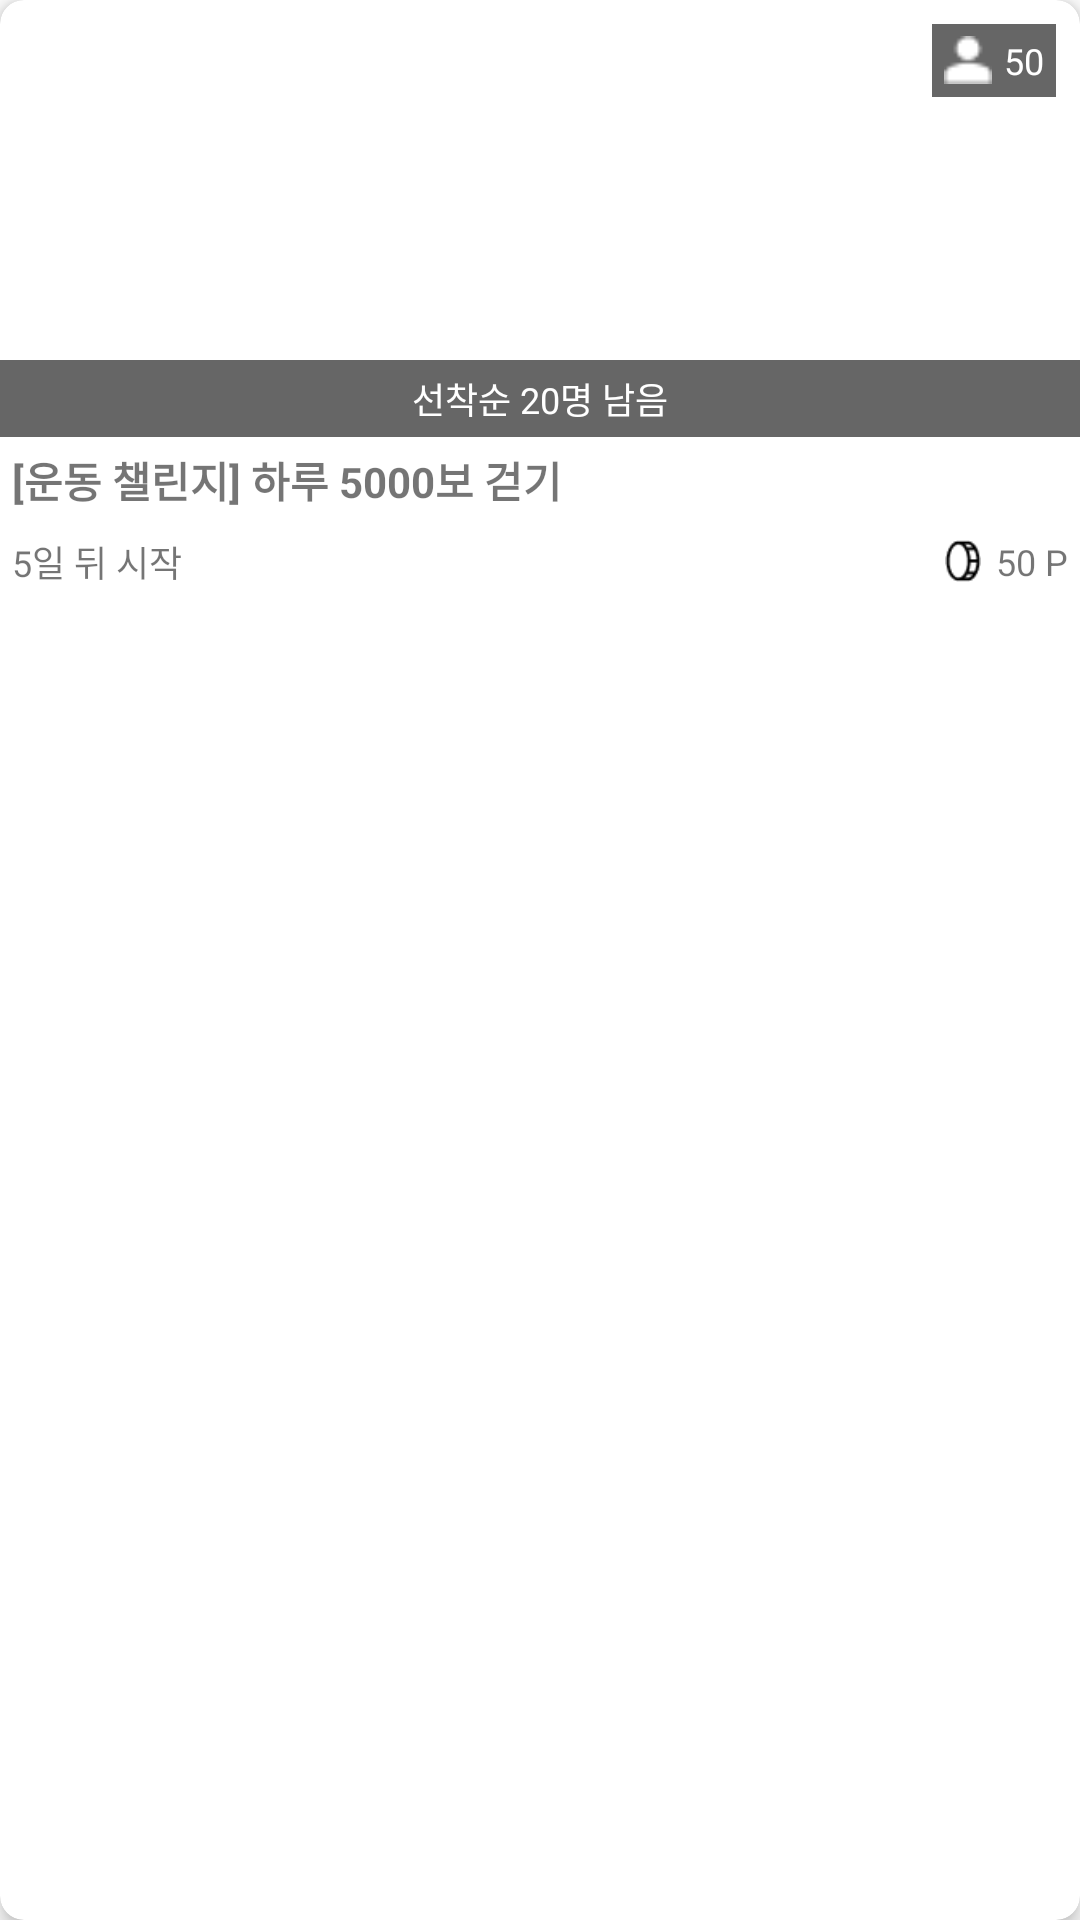

Icon bounding boxes for this 1080x1920 phone screenshot, format BBox(x1, y1, x2, y2):
point: BBox(945, 540, 981, 582)
